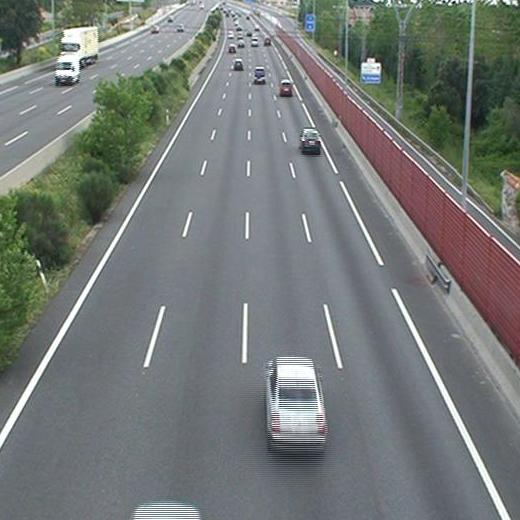car: (268, 358, 326, 448), (301, 129, 322, 150), (279, 81, 292, 95), (253, 68, 265, 82), (234, 60, 243, 68), (263, 36, 271, 44), (250, 37, 258, 45), (237, 39, 244, 47), (228, 45, 234, 52)
